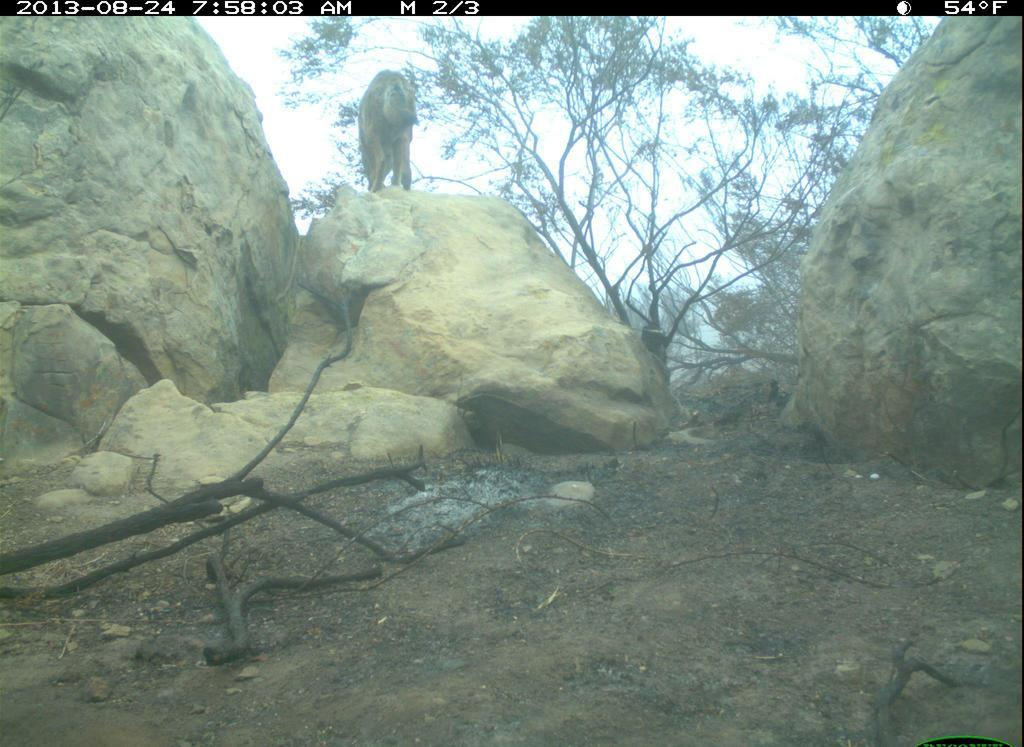coyote: (356, 68, 424, 198)
